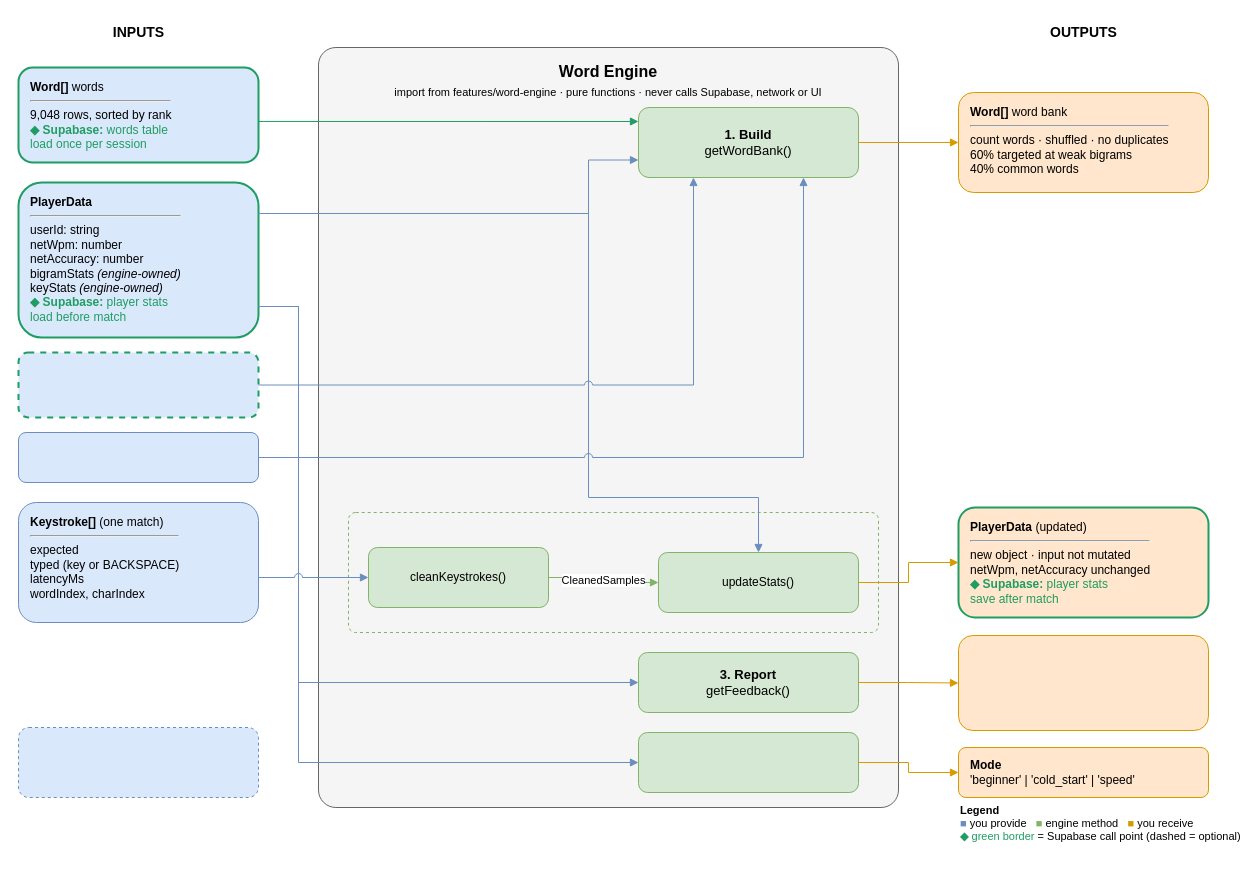
Image size: 1258x869. Some labels were removed from this diagram. Each missing label, with the box of its shape:
2. Learn: (348, 512, 878, 632)
config? WordEngineConfig optional on every method defaults to DEFAULT_CONFIG: (18, 726, 258, 798)
count number · words in the bank: (18, 432, 258, 482)
Mode check computeBaselines() → pickMode(): (638, 732, 858, 792)
PlayerFeedback weakestBigrams (top 5) classSummary handSummary: (958, 634, 1208, 730)
recentWords Set<string> · words from last ~3 banks ◆ Supabase or in memory: (17, 351, 259, 418)
